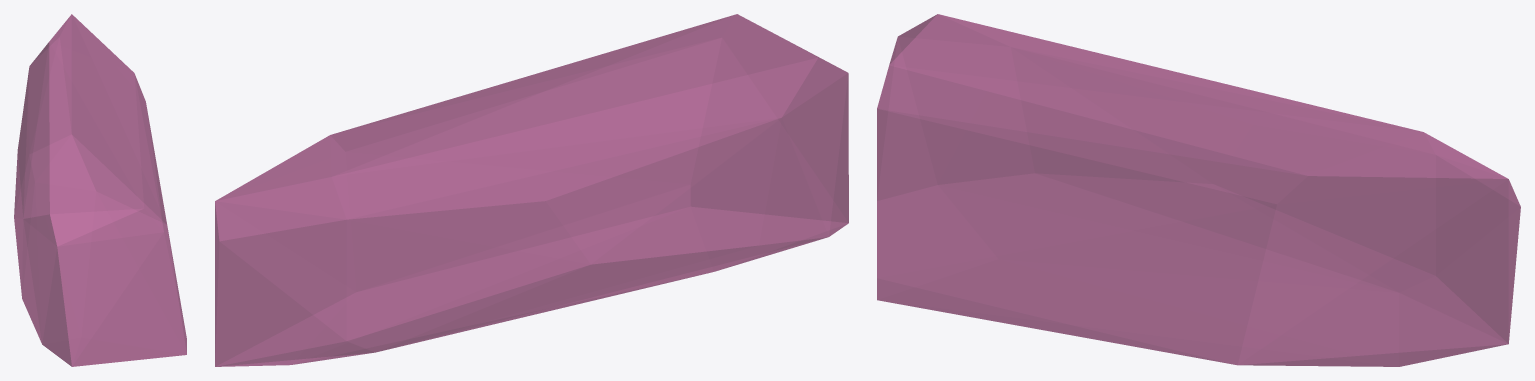
3 renders of one model, left to right at view 1: azimuth 30°, elevation 25°; view 2: azimuth 150°, elevation 25°; view 3: azimuth 270°, elevation 25°, orthographic. The views are drawn at different scales.
Visible parts, largest first — view 1: Shape_IndexedFaceSet.007_Shape_IndexedFaceSet.7633; view 2: Shape_IndexedFaceSet.007_Shape_IndexedFaceSet.7633; view 3: Shape_IndexedFaceSet.007_Shape_IndexedFaceSet.7633.
Boxes of the visible parts, x1,y1,x2,y2 form: Shape_IndexedFaceSet.007_Shape_IndexedFaceSet.7633: (14, 14, 186, 366); Shape_IndexedFaceSet.007_Shape_IndexedFaceSet.7633: (215, 14, 848, 366); Shape_IndexedFaceSet.007_Shape_IndexedFaceSet.7633: (877, 14, 1520, 366).
Size of the model in its own units: 0.2605 by 0.1597 by 0.4455.
